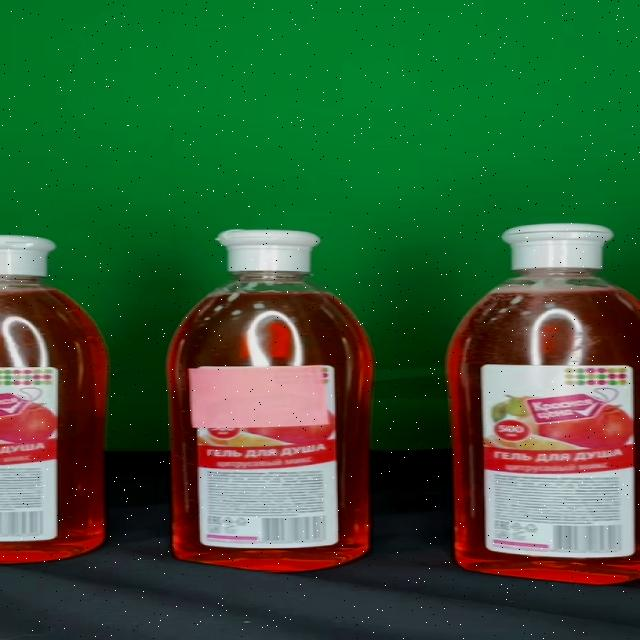Bottle: (166, 230, 374, 572), (446, 224, 640, 585)
Cap: (502, 224, 613, 267), (217, 229, 322, 273)
